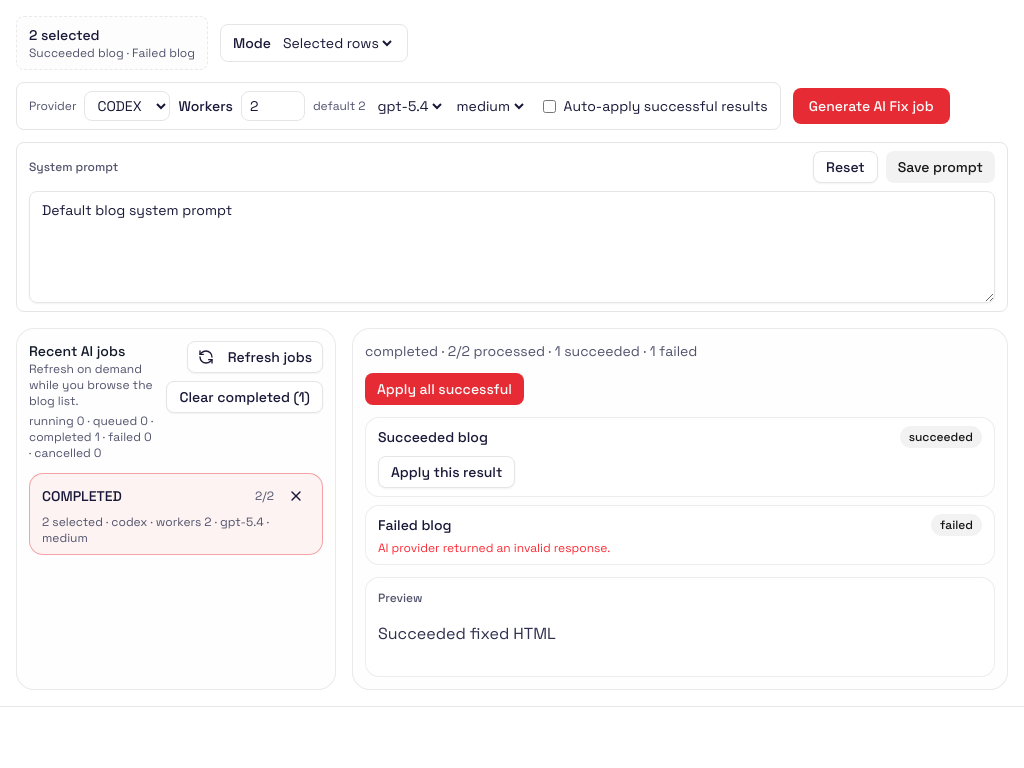
Test case: AdminBlogBatchAiPanel › does not claim full success when applying a job returns partial failures
Click the button "Apply all successful". click: (444, 389)
box: [365,373,524,405]
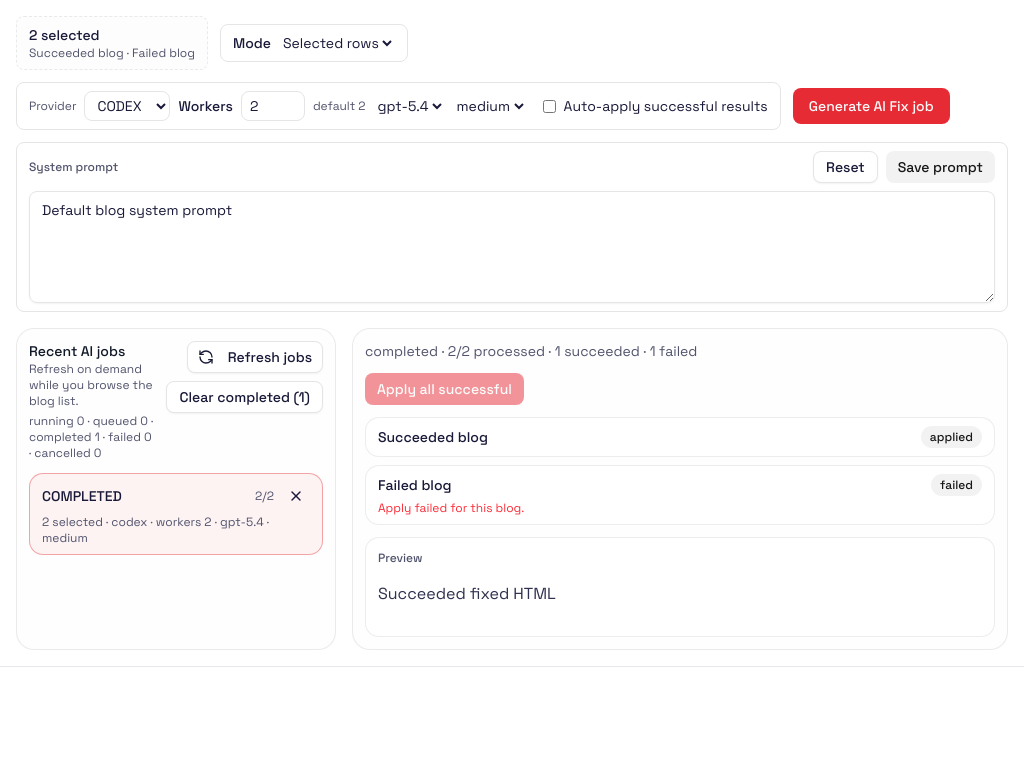
Expected: the button "Failed blog" is shown, [378,475,919,495]
Expected: the text "Apply failed for this blog." is shown, [378,500,524,516]
Expected: the button "Apply all successful" is disabled, [365,373,524,405]
